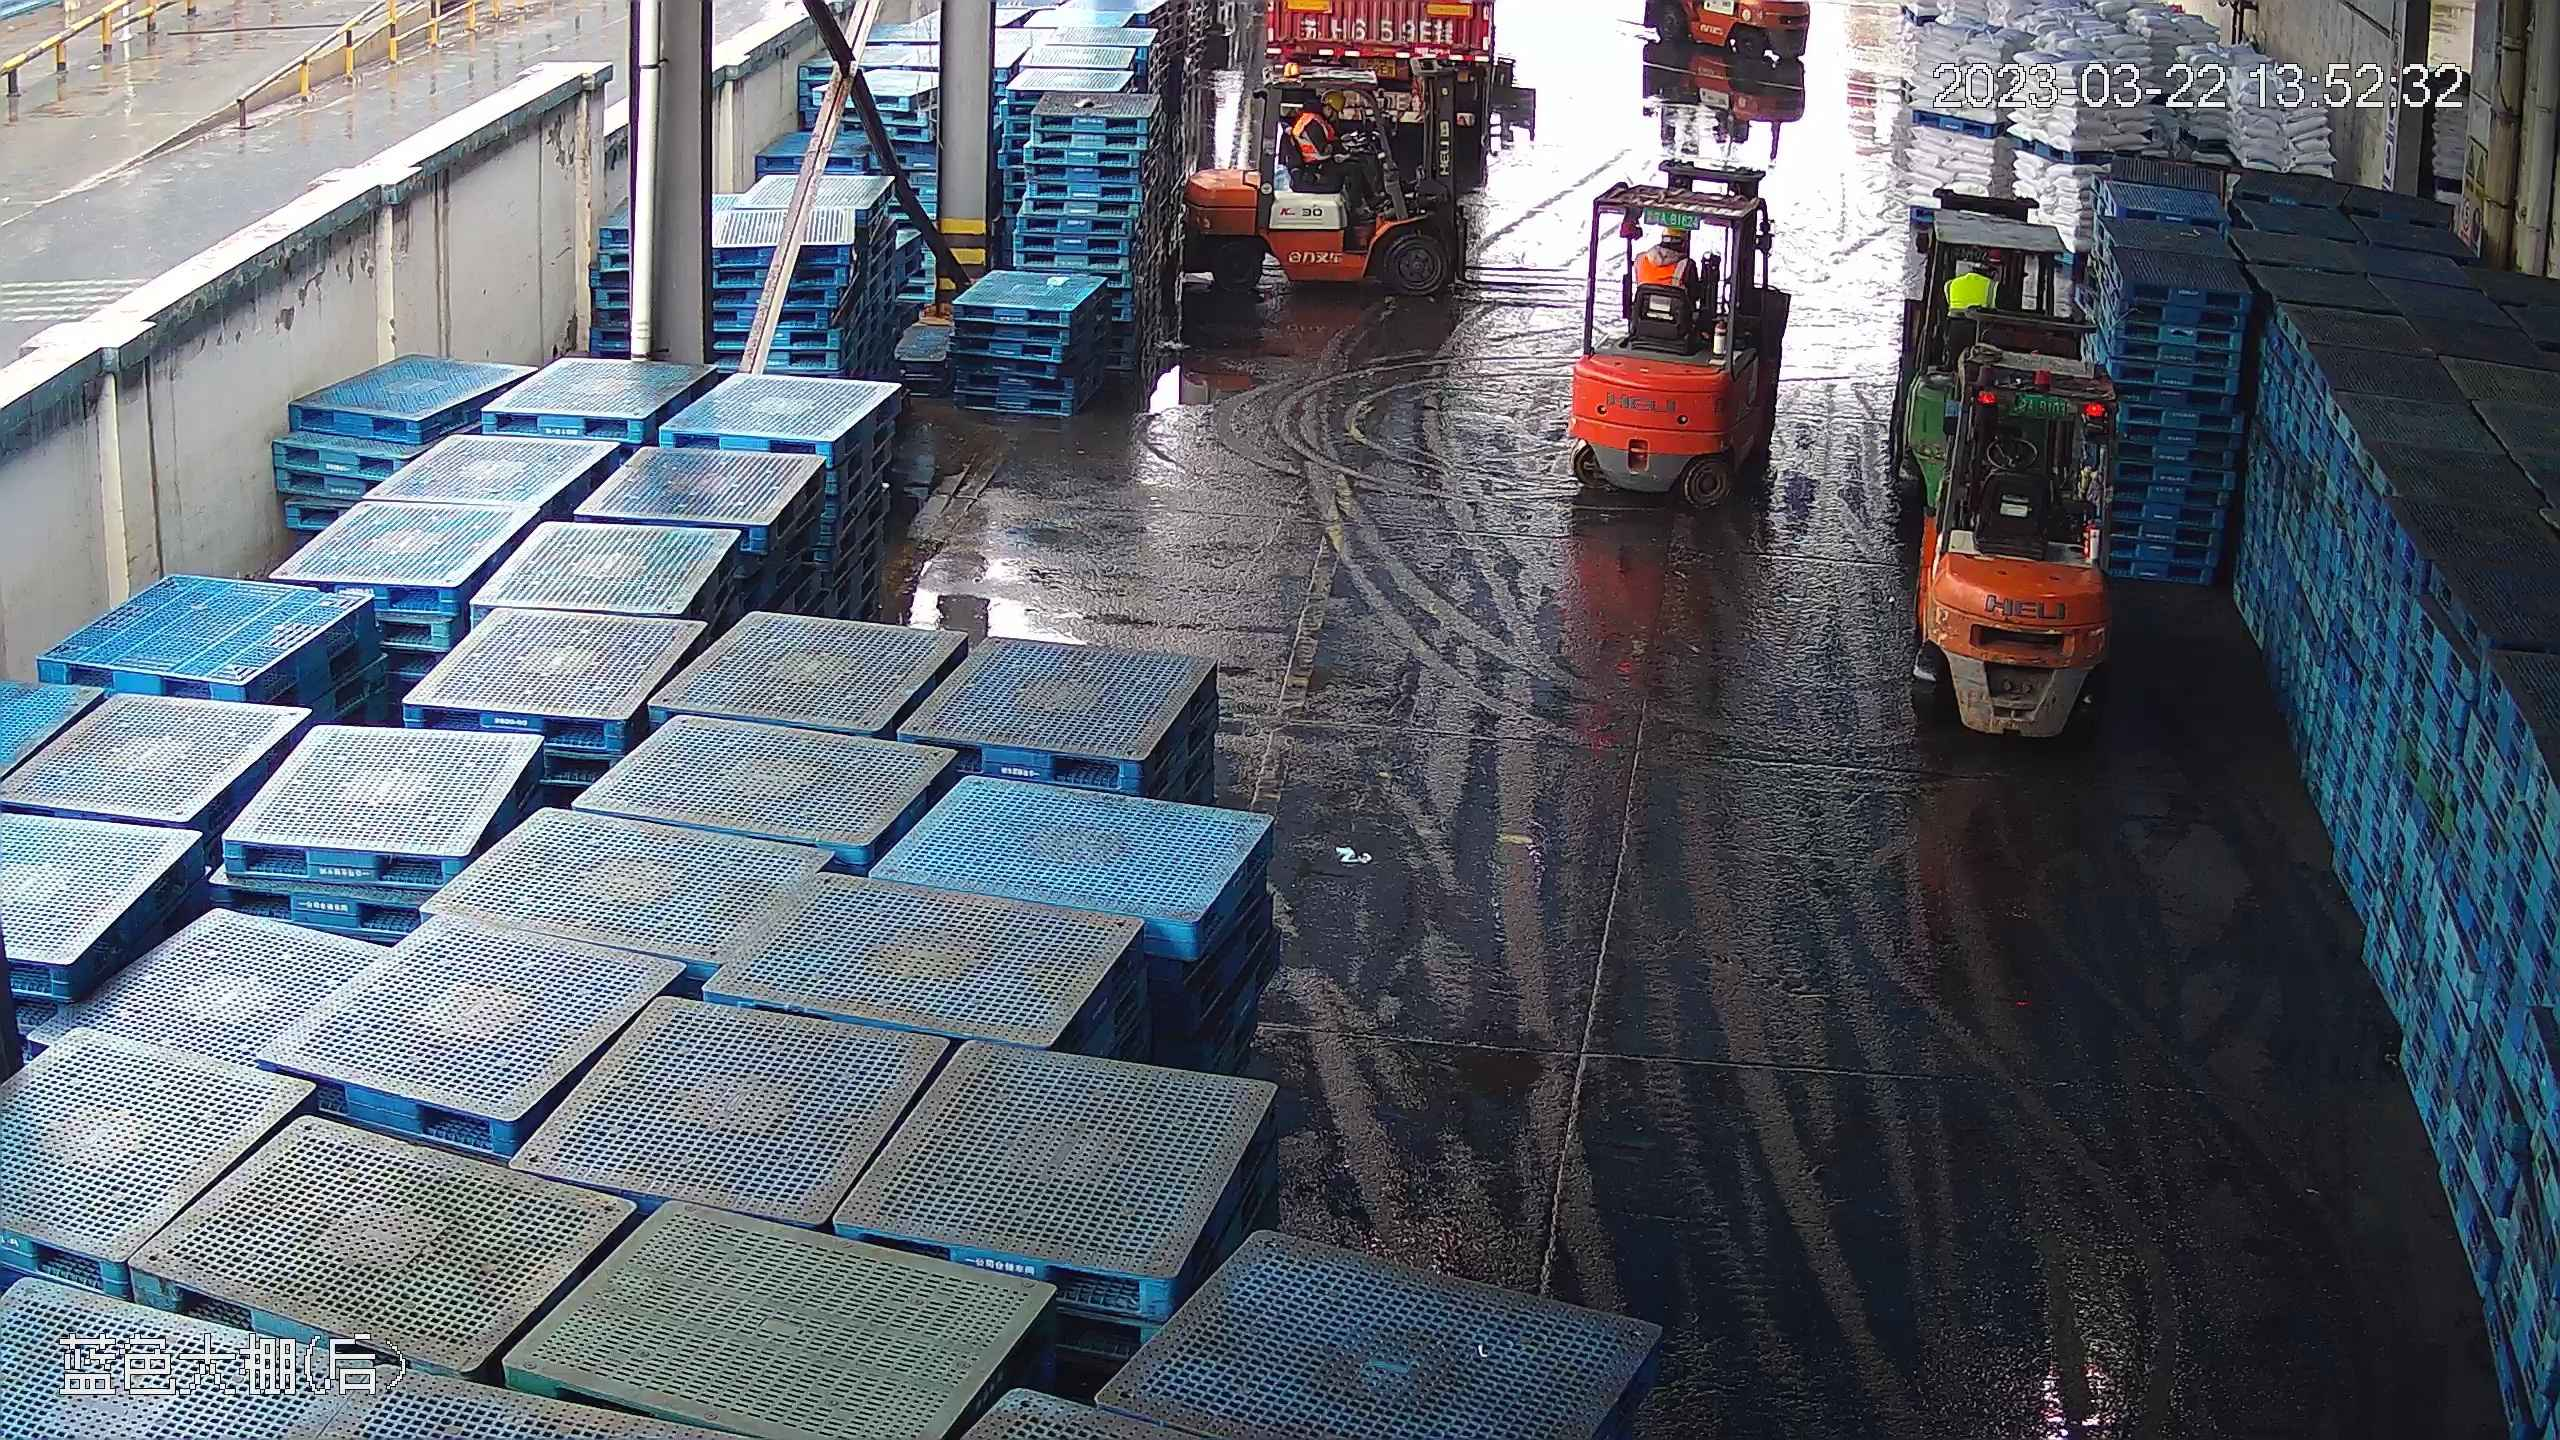head: (1641, 222, 1698, 280), (1297, 88, 1349, 138)
helmet: (1317, 86, 1347, 111)
people: (1287, 91, 1378, 199)
